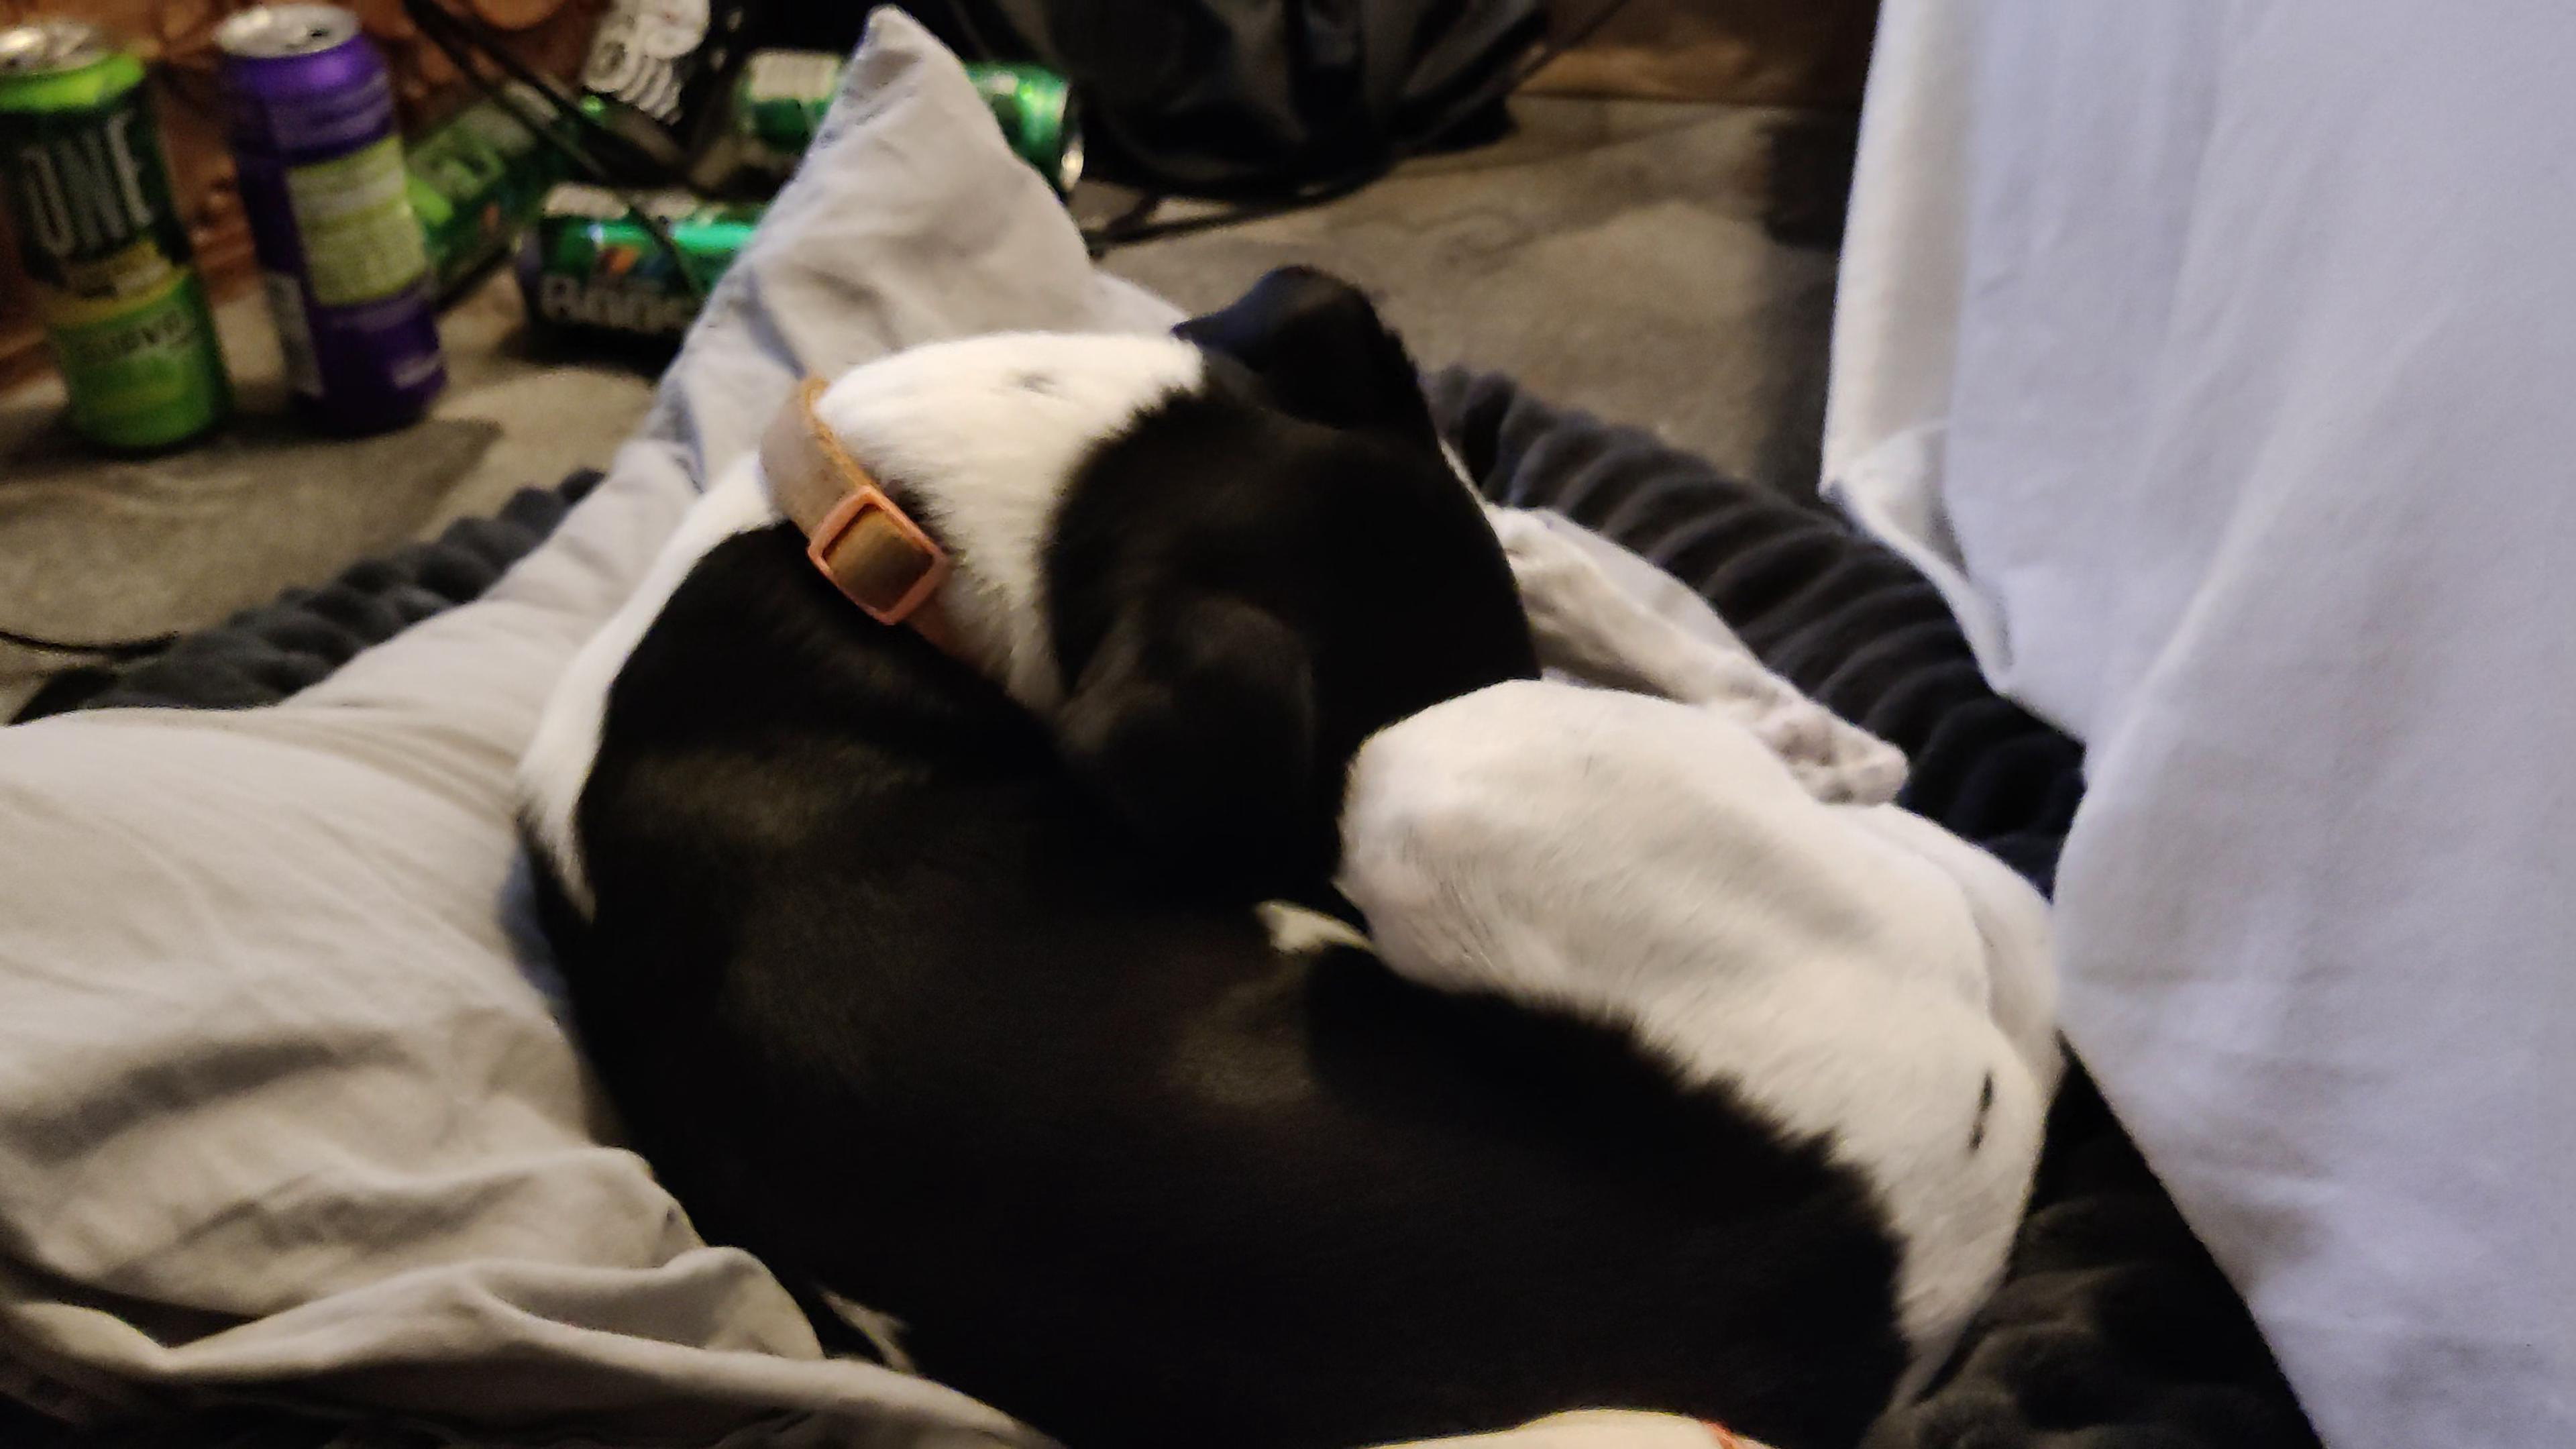Dog: (497, 251, 2088, 1449)
